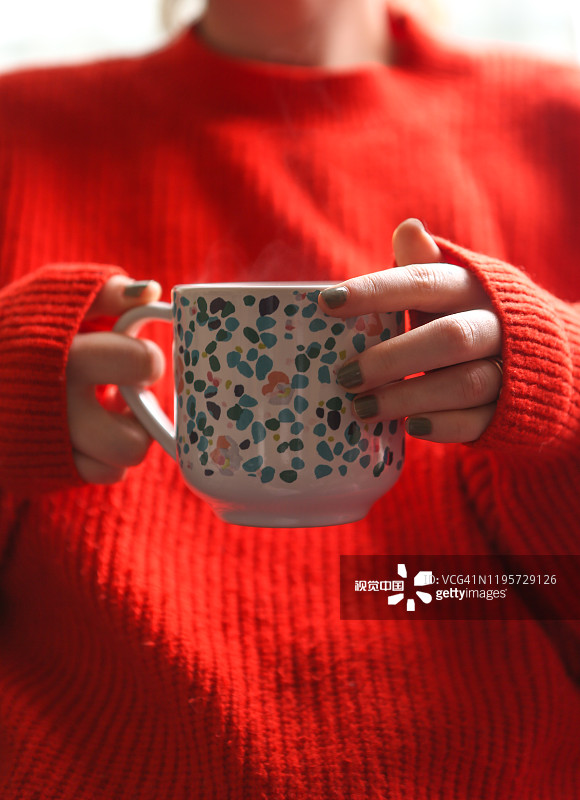no-phone: (301, 191, 541, 478), (28, 250, 187, 530)
